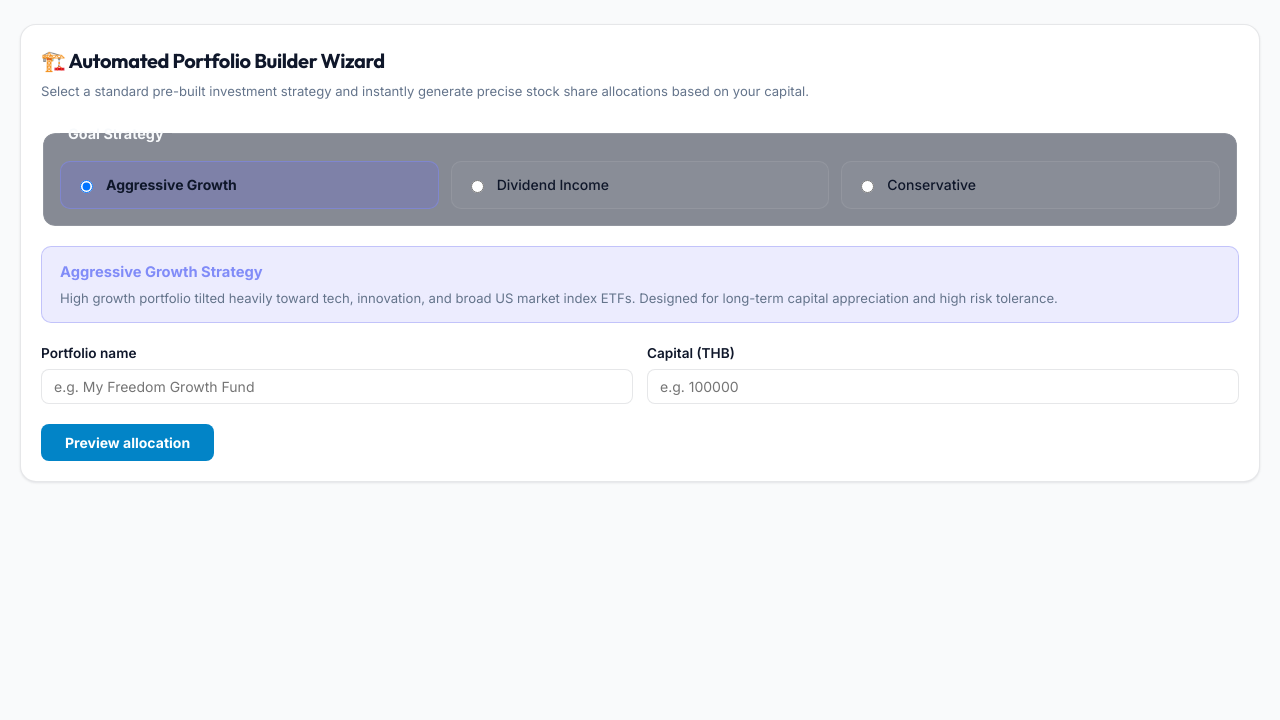
Test: PortfolioBuilderWizard › shows an error and does not fetch anything when capital is left at zero
Type "Test Portfolio" into the field labelled "Portfolio name".
click(337, 386); type("Test Portfolio")  # box [41,369,633,404]
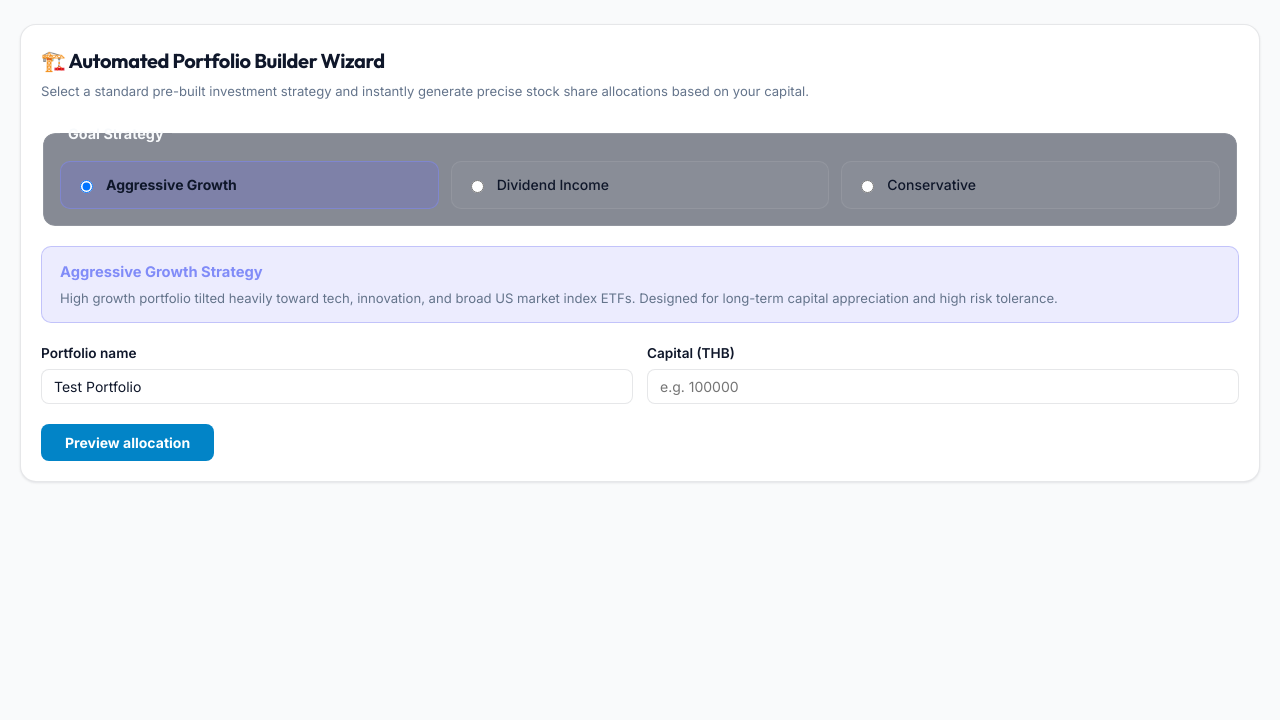
Click the button "Preview allocation".
click(128, 442)  # box [41,424,214,461]
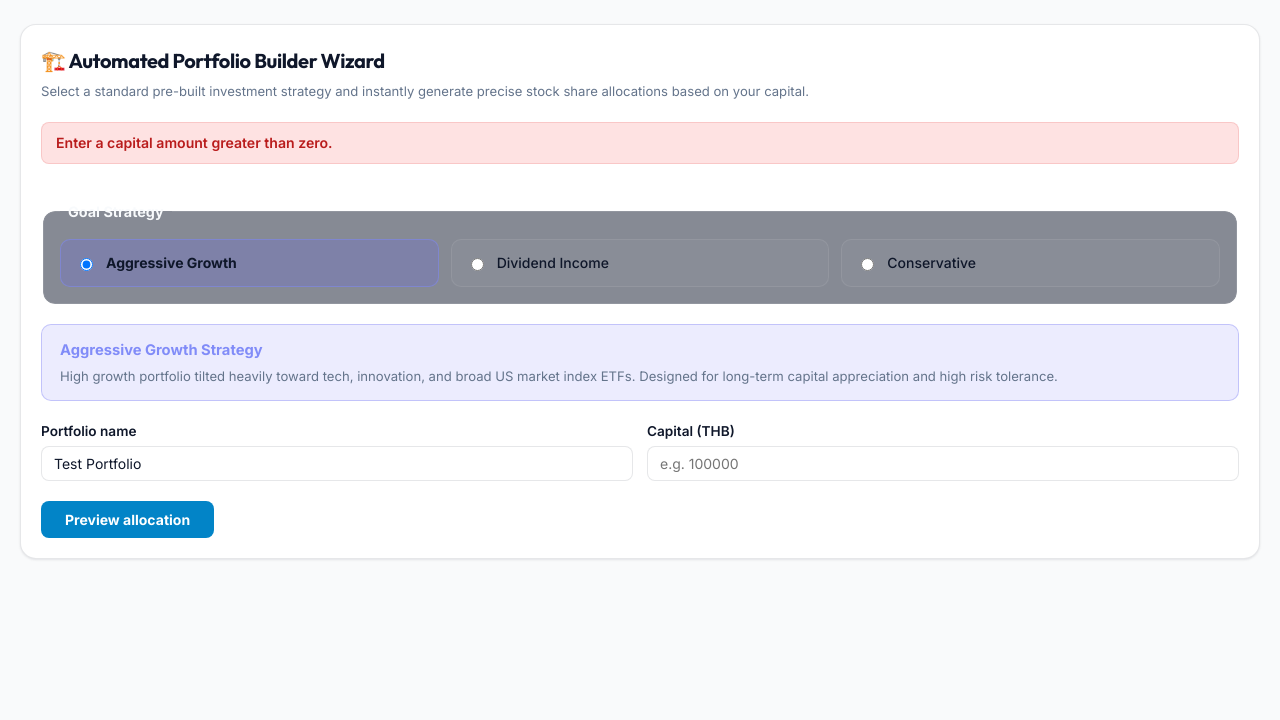
Expected: the message shows "capital amount", [56,134,333,151]
